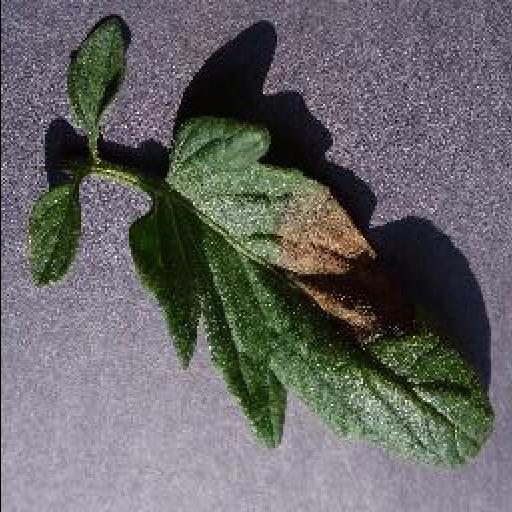disease_tomato: (130, 120, 496, 468)
